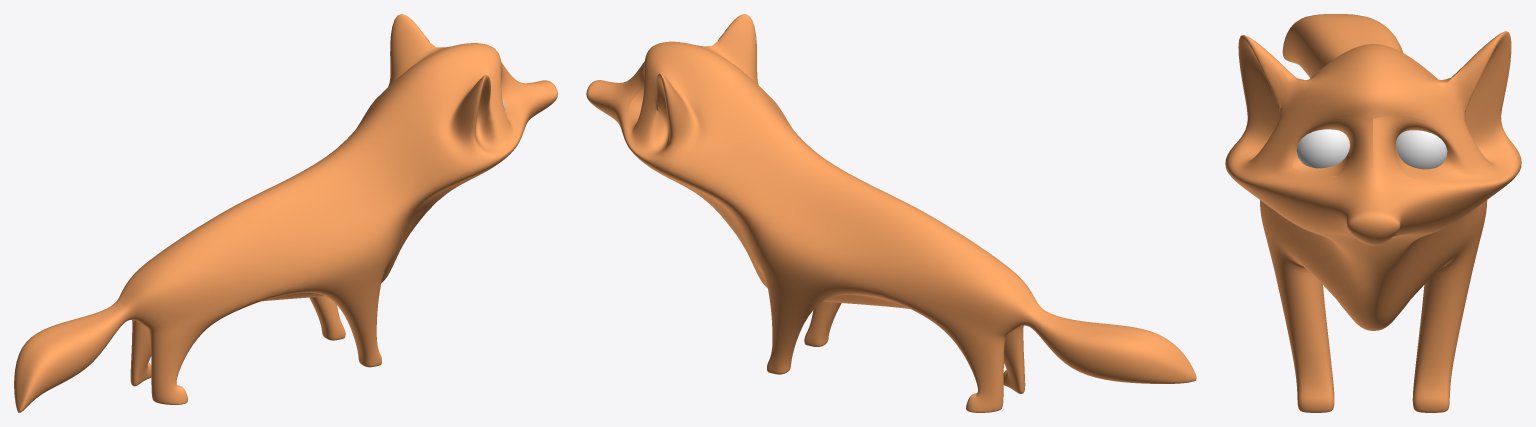
Rendered from FOX.fbx.
The picture shows the model from 3 angles, left to right: view 1: azimuth 30°, elevation 25°; view 2: azimuth 150°, elevation 25°; view 3: azimuth 270°, elevation 25°; orthographic projection. The views are drawn at different scales.
Visible parts, largest first — view 1: Subdivision_Surface; view 2: Subdivision_Surface; view 3: Subdivision_Surface, eye, eye_2.
Boxes of the visible parts, x1,y1,x2,y2 form: Subdivision_Surface: [14, 14, 557, 412]; Subdivision_Surface: [586, 14, 1196, 412]; Subdivision_Surface: [1225, 14, 1521, 412]; eye: [1296, 129, 1349, 168]; eye_2: [1395, 130, 1447, 169].
Bounding box in the file's own units: 843 × 405 × 244.
